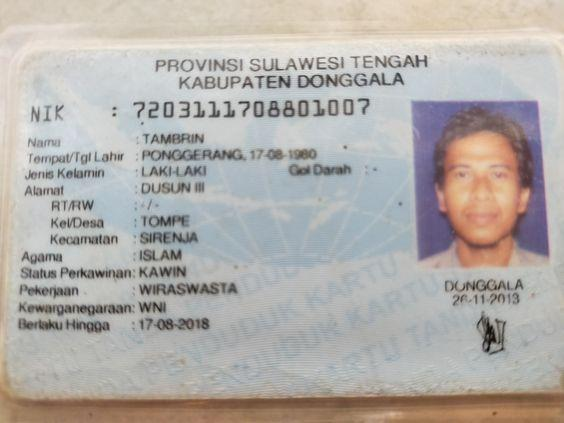ID-card: (7, 37, 562, 390)
